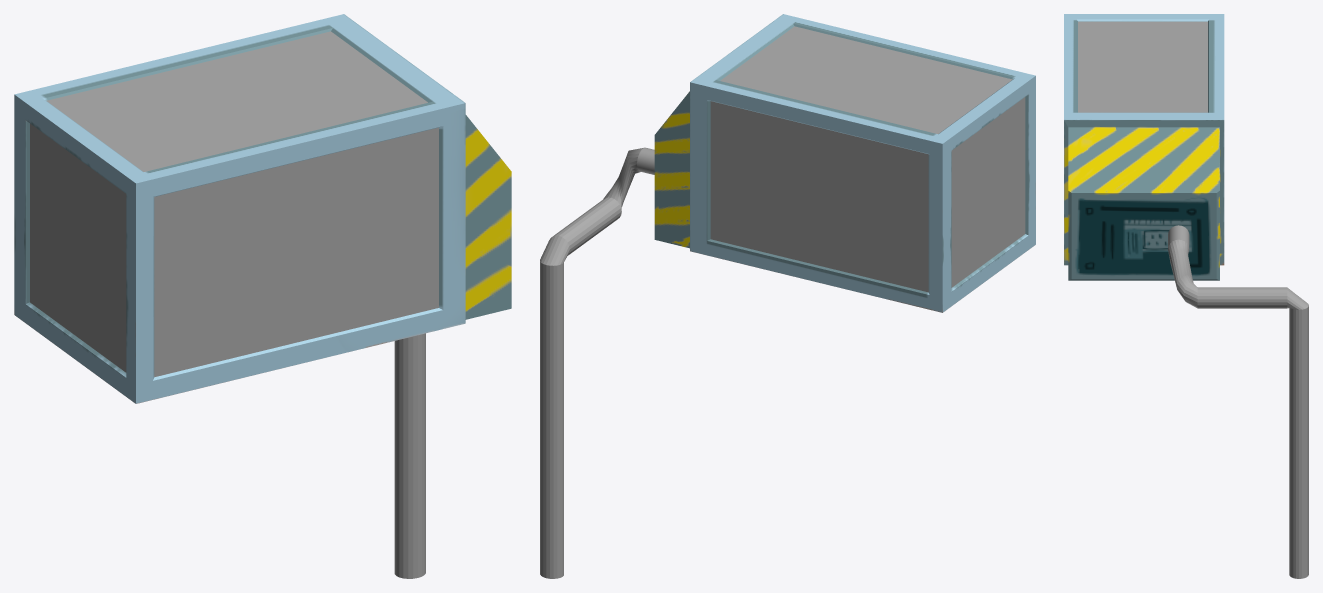
Rendered from AlienBox.fbx.
3 views of the same model, side by side, from view 1: azimuth 30°, elevation 25°; view 2: azimuth 150°, elevation 25°; view 3: azimuth 270°, elevation 25° (orthographic). The views are drawn at different scales.
Visible parts, largest first — view 1: AlienBox; view 2: AlienBox; view 3: AlienBox.
Boxes of the visible parts, bbox=[...] form: AlienBox: bbox=[14, 14, 511, 578]; AlienBox: bbox=[540, 14, 1035, 578]; AlienBox: bbox=[1064, 14, 1308, 578].
Bounding box in the file's own units: 76.89 × 99.17 × 53.05.
